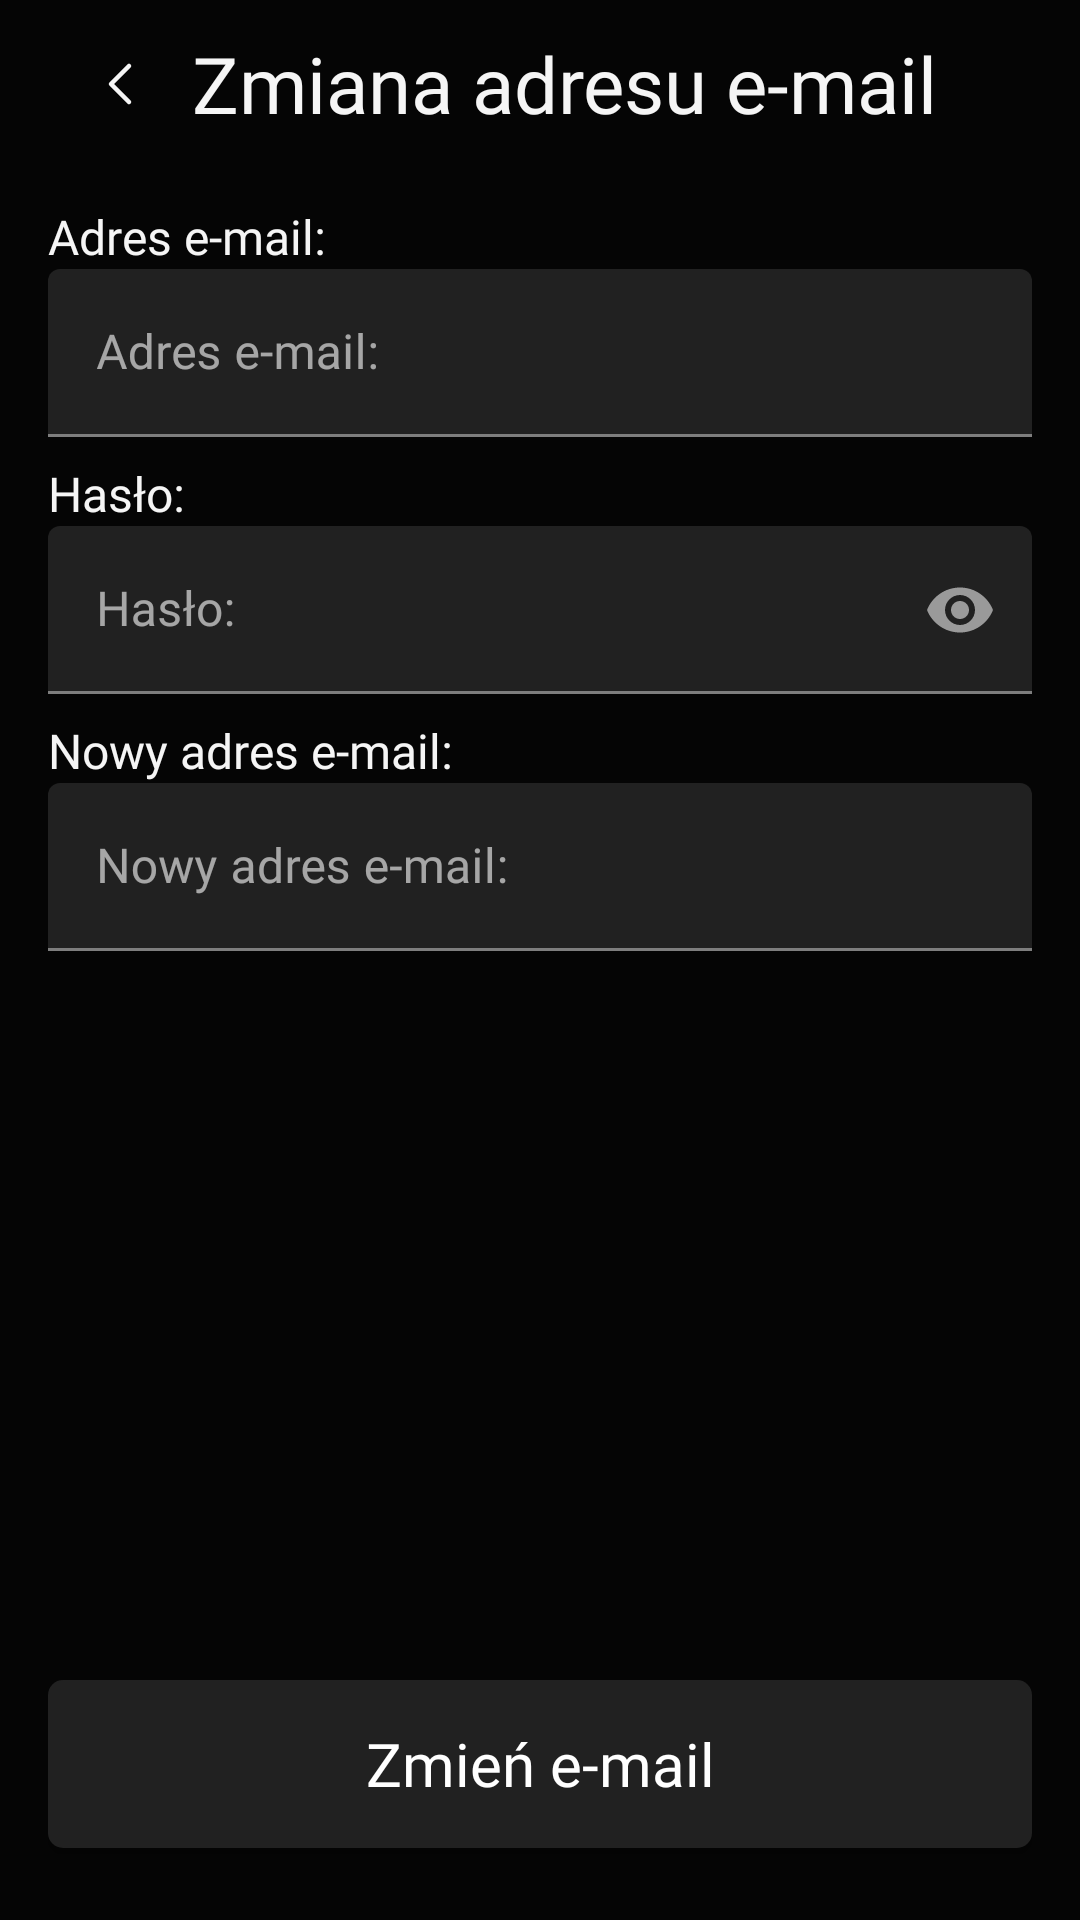

Icon bounding boxes for this 1080x1920 phone screenshot, format (x1, y1, x2, y2):
Go Back: (108, 63, 132, 105)
